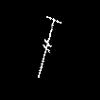treble_crochet: (38, 16, 60, 77)
